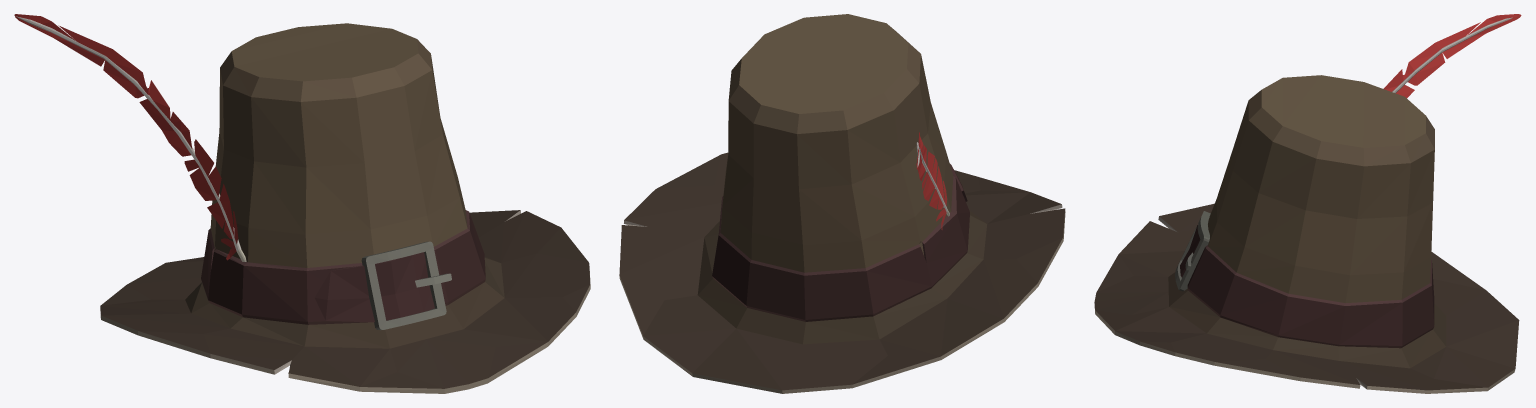
File: settlersHat.glb
The picture shows the model from 3 angles, left to right: view 1: azimuth 30°, elevation 25°; view 2: azimuth 150°, elevation 25°; view 3: azimuth 270°, elevation 25°; orthographic projection. The views are drawn at different scales.
Visible parts, largest first — view 1: settlersHat; view 2: settlersHat; view 3: settlersHat.
Part boxes in pixels (x1,y1,x2,y2): settlersHat: (14,14,590,393); settlersHat: (619,14,1065,393); settlersHat: (1094,14,1521,393).
Size of the model in its own units: 0.4885 by 0.3323 by 0.4991.
